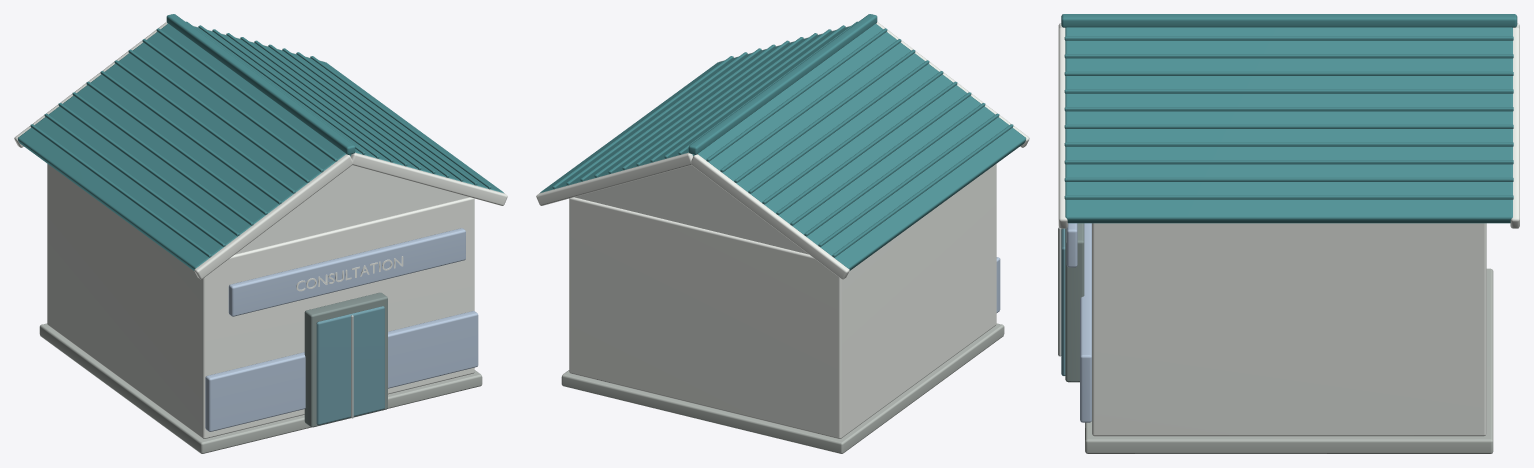
The model's file is consult.glb.
3 renders of one model, left to right at view 1: azimuth 30°, elevation 25°; view 2: azimuth 150°, elevation 25°; view 3: azimuth 270°, elevation 25°, orthographic. The views are drawn at different scales.
Visible parts, largest first — view 1: Building shell.002, Pitched roof plane.004, Facade accent.002, Department sign.002, Triangular gable walls.002, Entrance double glass doors.002, Pitched roof plane.005, Foundation.002, Entrance door frame.002, Roof ridge cap.002, White gable fascia.008, White gable fascia.010 (+21 smaller); view 2: Building shell.002, Pitched roof plane.004, Triangular gable walls.002, Foundation.002, Pitched roof plane.005, Roof ridge cap.002, White gable fascia.009, White gable fascia.011, Roof tile course.041, Roof tile course.043, Roof tile course.045, Roof tile course.040 (+16 smaller); view 3: Building shell.002, Pitched roof plane.005, Foundation.002, Roof ridge cap.002, Entrance door frame.002, Roof tile course.050, Roof tile course.053, Roof tile course.056, Roof tile course.059, Roof tile course.051, Roof tile course.052, Roof tile course.054 (+9 smaller).
Part boxes in pixels (x1,y1,x2,y2): Building shell.002: [47, 164, 474, 438]; Pitched roof plane.004: [17, 23, 349, 270]; Facade accent.002: [205, 311, 478, 431]; Department sign.002: [228, 228, 465, 316]; Triangular gable walls.002: [235, 165, 469, 254]; Entrance double glass doors.002: [316, 306, 384, 424]; Pitched roof plane.005: [194, 26, 503, 192]; Foundation.002: [39, 323, 482, 453]; Entrance door frame.002: [304, 292, 387, 427]; Roof ridge cap.002: [166, 14, 355, 154]; White gable fascia.008: [194, 154, 352, 279]; White gable fascia.010: [350, 152, 507, 205]; Building shell.002: [569, 164, 996, 438]; Pitched roof plane.004: [694, 23, 1026, 270]; Triangular gable walls.002: [574, 165, 808, 254]; Foundation.002: [561, 323, 1004, 453]; Pitched roof plane.005: [540, 26, 849, 192]; Roof ridge cap.002: [688, 14, 877, 154]; White gable fascia.009: [691, 154, 849, 279]; White gable fascia.011: [536, 152, 693, 205]; Roof tile course.041: [720, 39, 901, 172]; Roof tile course.043: [748, 60, 929, 193]; Roof tile course.045: [776, 81, 957, 214]; Roof tile course.040: [706, 28, 887, 161]; Building shell.002: [1092, 223, 1486, 436]; Pitched roof plane.005: [1065, 27, 1512, 223]; Foundation.002: [1085, 268, 1493, 453]; Roof ridge cap.002: [1061, 14, 1517, 27]; Entrance door frame.002: [1065, 223, 1084, 382]; Roof tile course.050: [1064, 36, 1513, 40]; Roof tile course.053: [1064, 89, 1513, 93]; Roof tile course.056: [1064, 142, 1513, 146]; Roof tile course.059: [1064, 195, 1513, 199]; Roof tile course.051: [1064, 54, 1513, 58]; Roof tile course.052: [1064, 71, 1513, 75]; Roof tile course.054: [1064, 107, 1513, 111].
Bounding box in the file's own units: 6.63 × 5.72 × 6.79.
